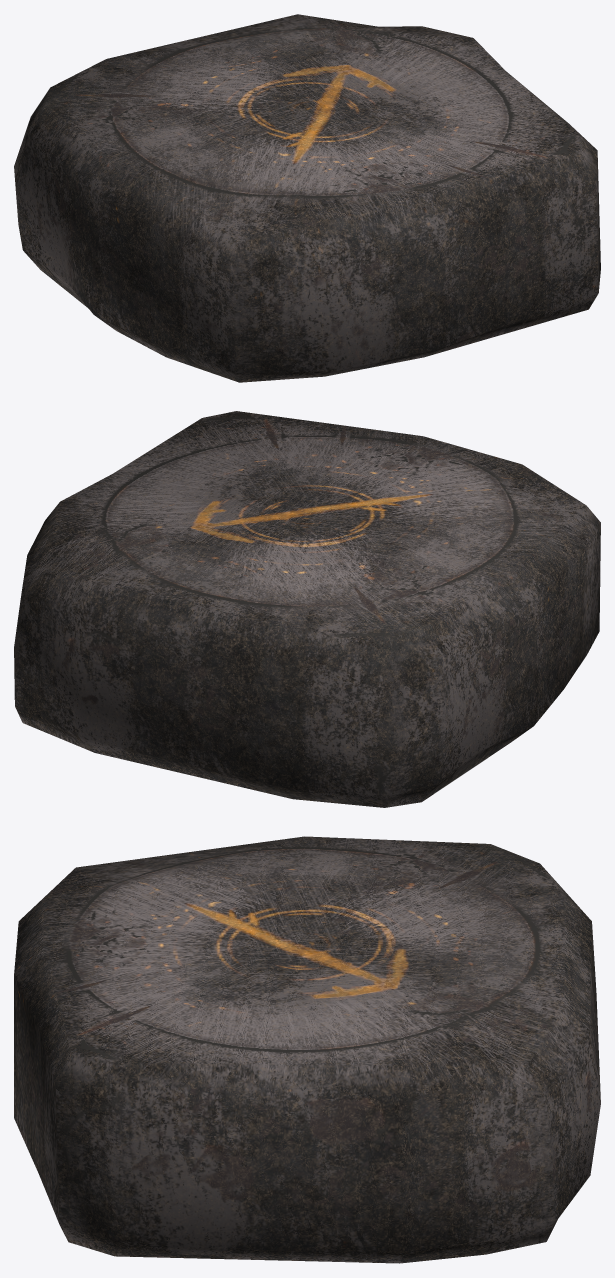
Rendered from whflamerune.glb.
The picture shows the model from 3 angles, top to bottom: view 1: azimuth 30°, elevation 25°; view 2: azimuth 150°, elevation 25°; view 3: azimuth 270°, elevation 25°; orthographic projection. The views are drawn at different scales.
Parts seen in each view (by area): view 1: Firebolt.Big.001_15; view 2: Firebolt.Big.001_15; view 3: Firebolt.Big.001_15.
Part boxes in pixels (x1,y1,x2,y2): Firebolt.Big.001_15: [14, 14, 600, 382]; Firebolt.Big.001_15: [14, 411, 600, 807]; Firebolt.Big.001_15: [14, 836, 600, 1263].
Bounding box in the file's own units: 0.1122 × 0.0446 × 0.1095.
Materials: 1 (1 with a texture image).
